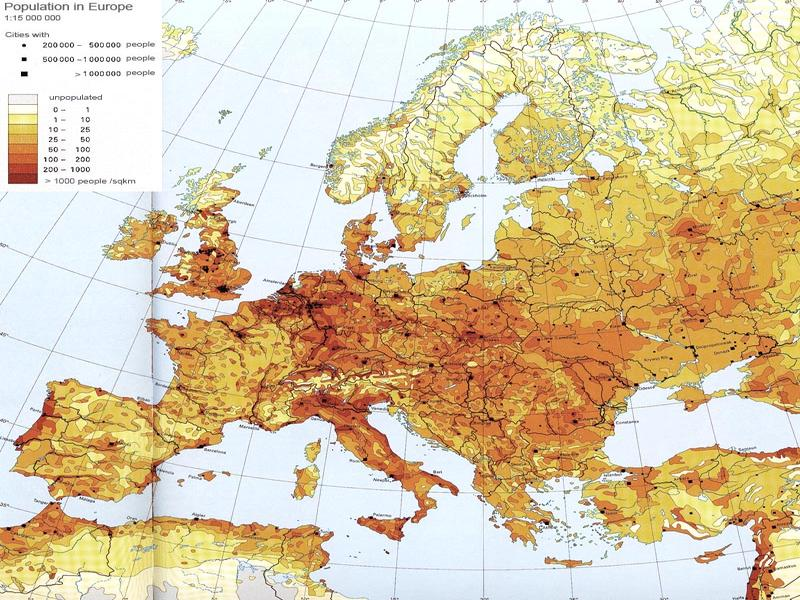legend: (1, 1, 164, 192)
